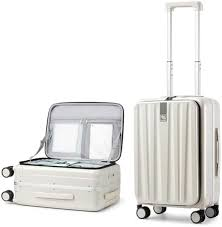suitcase: (131, 1, 222, 224), (1, 100, 127, 211)
